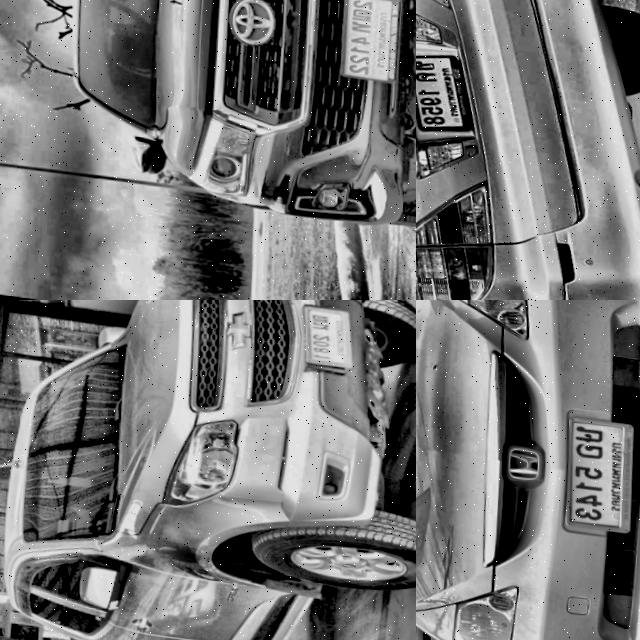license-plate: (548, 405, 640, 531), (416, 39, 479, 137), (331, 0, 407, 80), (295, 300, 353, 364)
